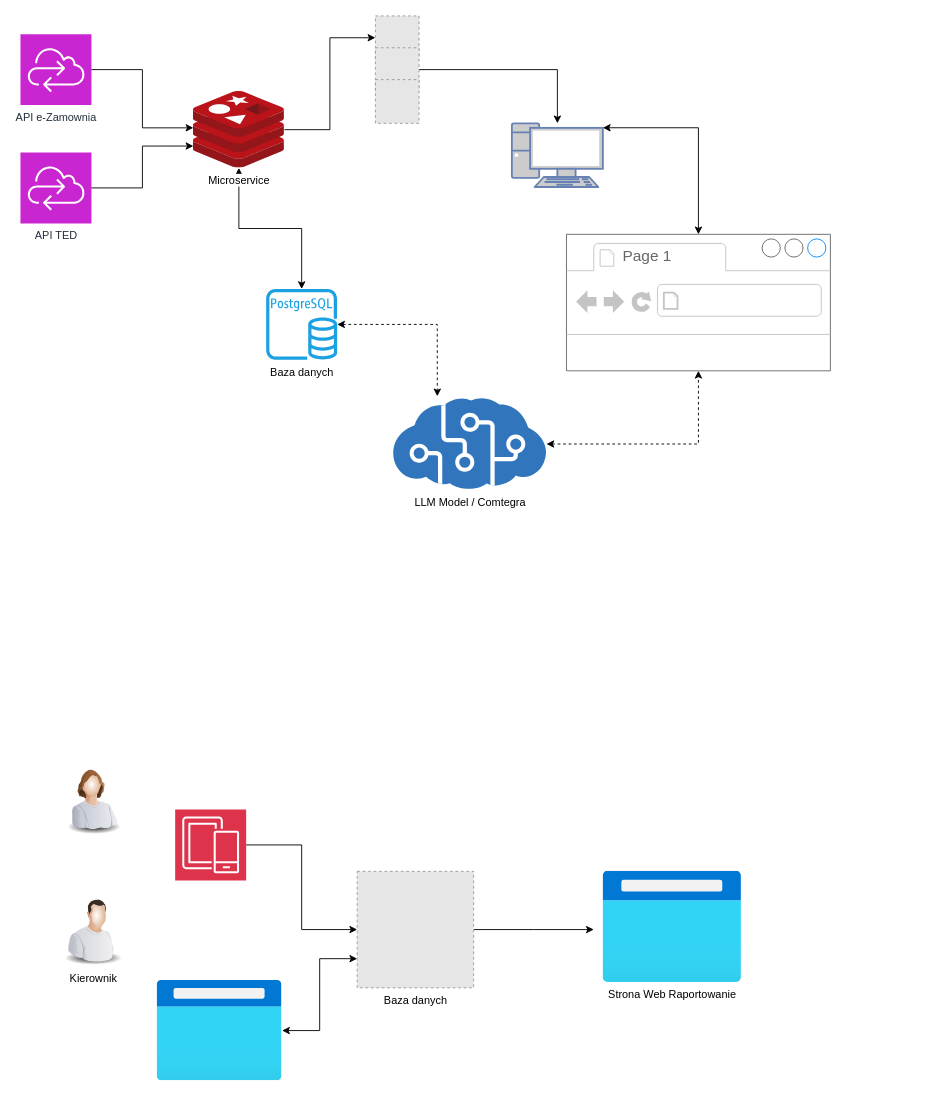
Image size: 928x1116. Some labels were removed from this diagram. Grey dashed boxes stand in for pictures. The box of each missing label's shape, as (x1, y1, x2, y2) in pixels:
Aplikacja mobilna: (174, 809, 246, 880)
https://ai: (684, 288, 912, 313)
Pracownik: (56, 762, 129, 834)
Strona Web do konfiguracji: (157, 980, 282, 1080)
